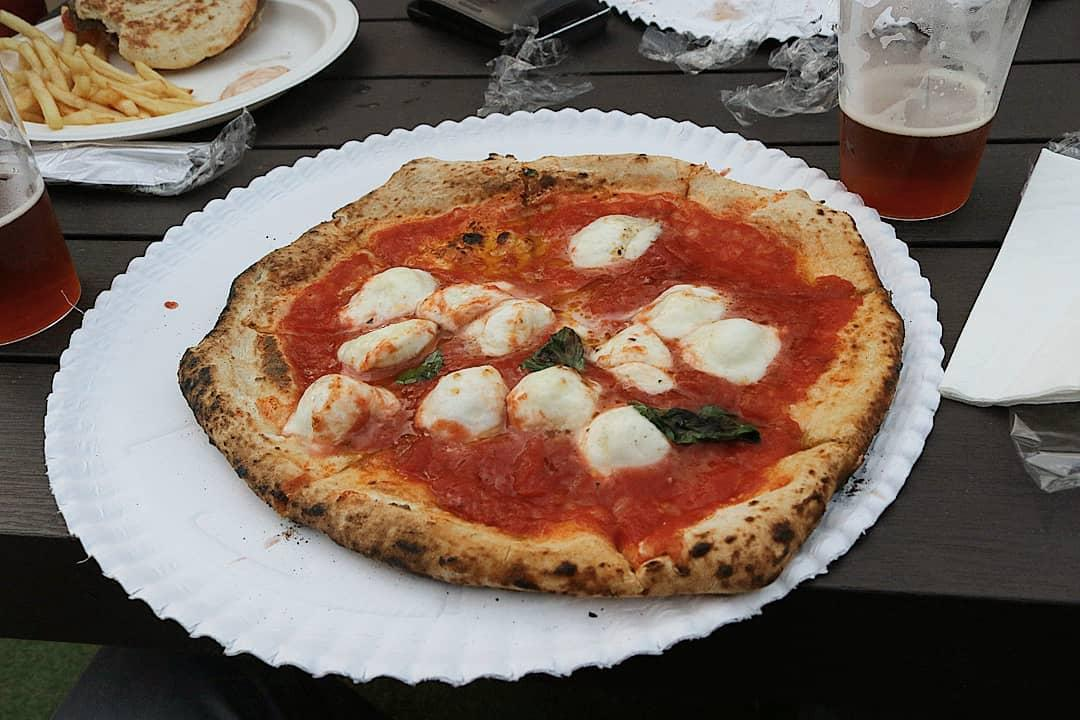Basil: (621, 397, 764, 450), (518, 321, 592, 377), (390, 348, 446, 388)
Cheese: (281, 372, 402, 441), (411, 364, 511, 445), (677, 316, 782, 391), (572, 403, 672, 480), (504, 363, 602, 436), (336, 315, 441, 381), (452, 297, 557, 363), (416, 278, 538, 334), (589, 321, 676, 397), (336, 267, 440, 330), (625, 281, 732, 342), (563, 216, 667, 273)
Pizza: (178, 150, 907, 599)
